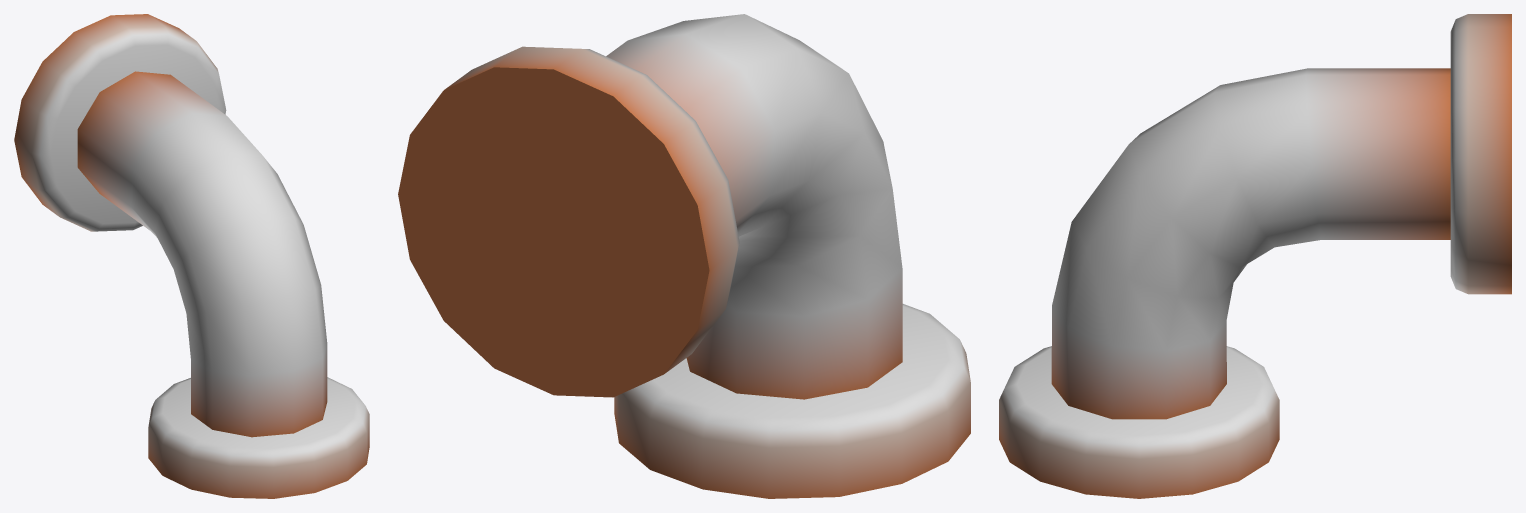
File: NF_Prop_Pipe 03.fbx
3 views of the same model, side by side, from view 1: azimuth 30°, elevation 25°; view 2: azimuth 150°, elevation 25°; view 3: azimuth 270°, elevation 25° (orthographic). The views are drawn at different scales.
Visible parts, largest first — view 1: Pipe_03; view 2: Pipe_03; view 3: Pipe_03.
Boxes of the visible parts, <box> form: Pipe_03: <box>14,14,369,498</box>; Pipe_03: <box>398,14,970,498</box>; Pipe_03: <box>999,14,1511,498</box>.
Size of the model in its own units: 0.8 by 1.3 by 1.46.
